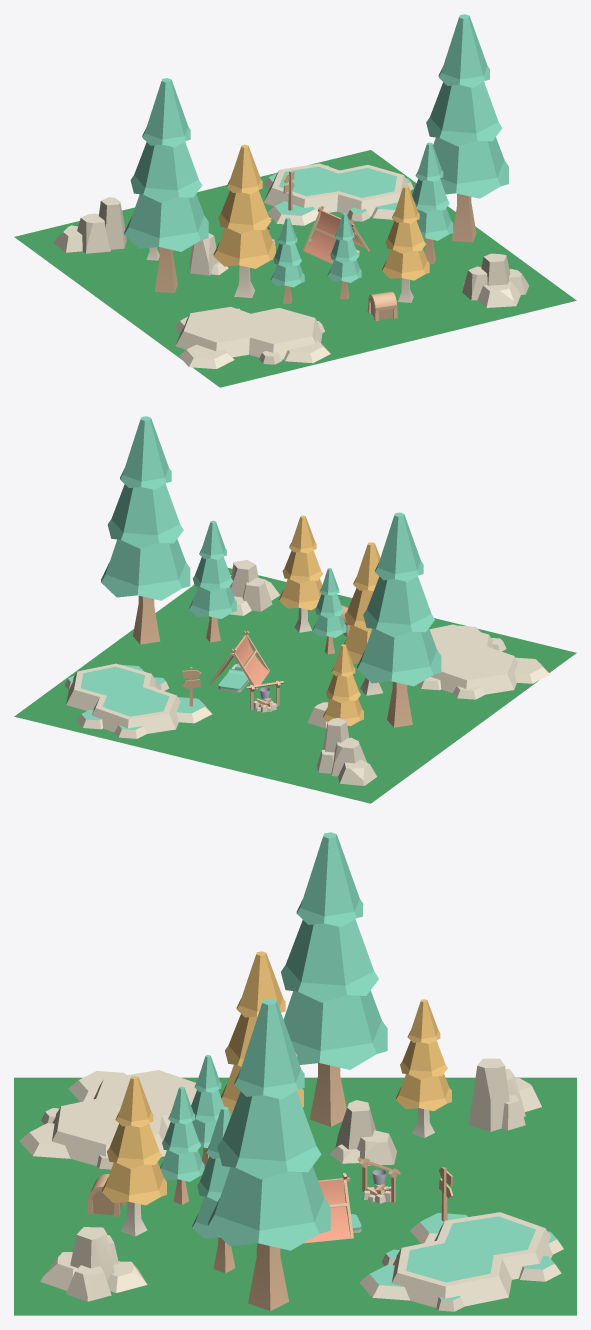
File: camp.glb
3 renders of one model, top to bottom at view 1: azimuth 30°, elevation 25°; view 2: azimuth 150°, elevation 25°; view 3: azimuth 270°, elevation 25°, orthographic. The views are drawn at different scales.
Parts seen in each view (by area): view 1: grass, tree.004, tree.003, rockFlat, rockFlatGrass, treeFall, treeFall.001, tree, rockC, rockB, tree.001, tree.002 (+2 smaller); view 2: grass, tree.004, tree.003, rockFlatGrass, rockFlat, tree, treeFall.001, treeFall, rockC, treeFall.002, rockB, tree.001 (+2 smaller); view 3: grass, tree.004, tree.003, rockFlatGrass, rockFlat, treeFall.001, rockB, treeFall.002, rockC, treeFall, tree.001, tree (+3 smaller).
Boxes of the visible parts, x1,y1,x2,y2 form: grass: [14, 150, 576, 387]; tree.004: [426, 14, 508, 242]; tree.003: [124, 78, 208, 293]; rockFlat: [175, 306, 330, 368]; rockFlatGrass: [264, 163, 413, 225]; treeFall: [213, 144, 275, 297]; treeFall.001: [382, 185, 429, 302]; tree: [412, 142, 453, 264]; rockC: [53, 197, 126, 253]; rockB: [462, 253, 528, 307]; tree.001: [327, 213, 361, 299]; tree.002: [270, 217, 304, 303]; grass: [14, 568, 576, 803]; tree.004: [101, 416, 190, 644]; tree.003: [357, 512, 441, 727]; rockFlatGrass: [65, 663, 212, 738]; rockFlat: [417, 624, 549, 699]; tree: [189, 520, 236, 642]; treeFall.001: [279, 515, 322, 632]; treeFall: [344, 542, 383, 695]; rockC: [317, 718, 377, 785]; treeFall.002: [323, 644, 363, 726]; rockB: [230, 560, 279, 615]; tree.001: [312, 568, 346, 654]; grass: [14, 1077, 576, 1315]; tree.004: [208, 998, 330, 1310]; tree.003: [281, 832, 387, 1126]; rockFlatGrass: [359, 1212, 563, 1311]; rockFlat: [19, 1070, 196, 1169]; treeFall.001: [102, 1076, 166, 1236]; rockB: [40, 1227, 147, 1301]; treeFall.002: [396, 999, 451, 1137]; rockC: [468, 1058, 541, 1131]; treeFall: [221, 951, 303, 1114]; tree.001: [160, 1086, 204, 1204]; tree: [192, 1106, 235, 1273].
Bounding box in the file's own units: 19.13 × 10.63 × 17.94.
